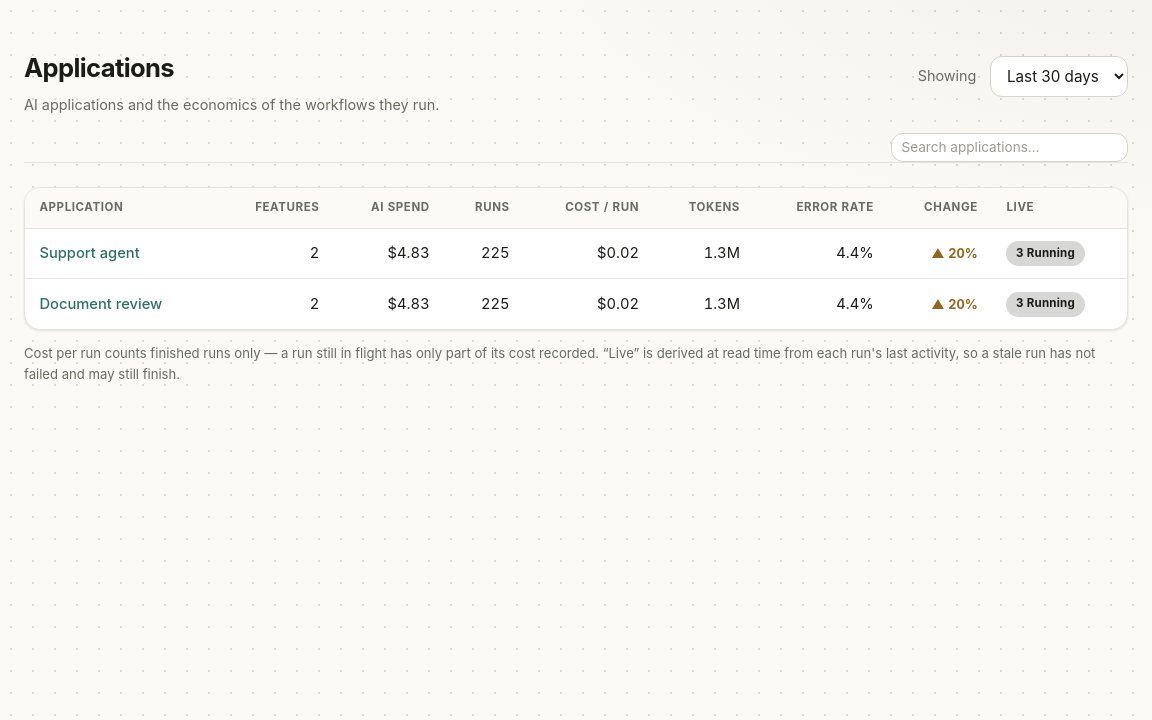
Test: Applications — the list › opens the detail when a row is clicked, not only its link
The image size is (1152, 720).
Click the row "Support agent" at (576, 254), box [25, 229, 1127, 279]
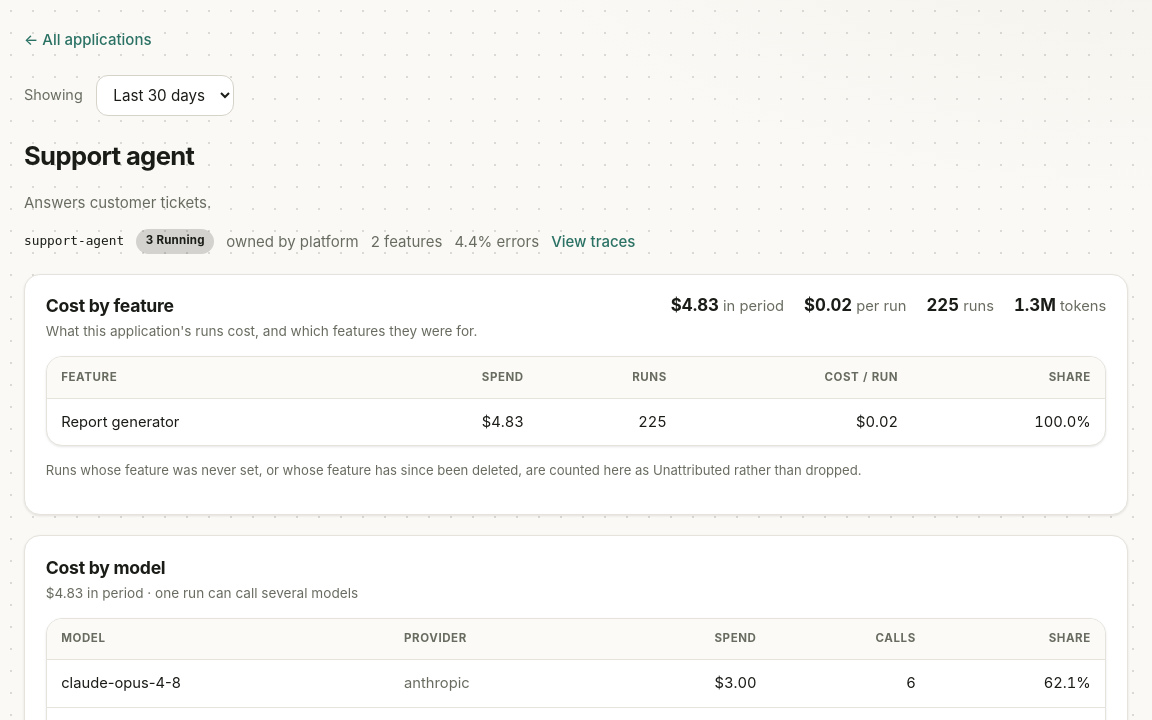
expect the heading "Support agent" is shown: met, box [24, 140, 194, 171]
